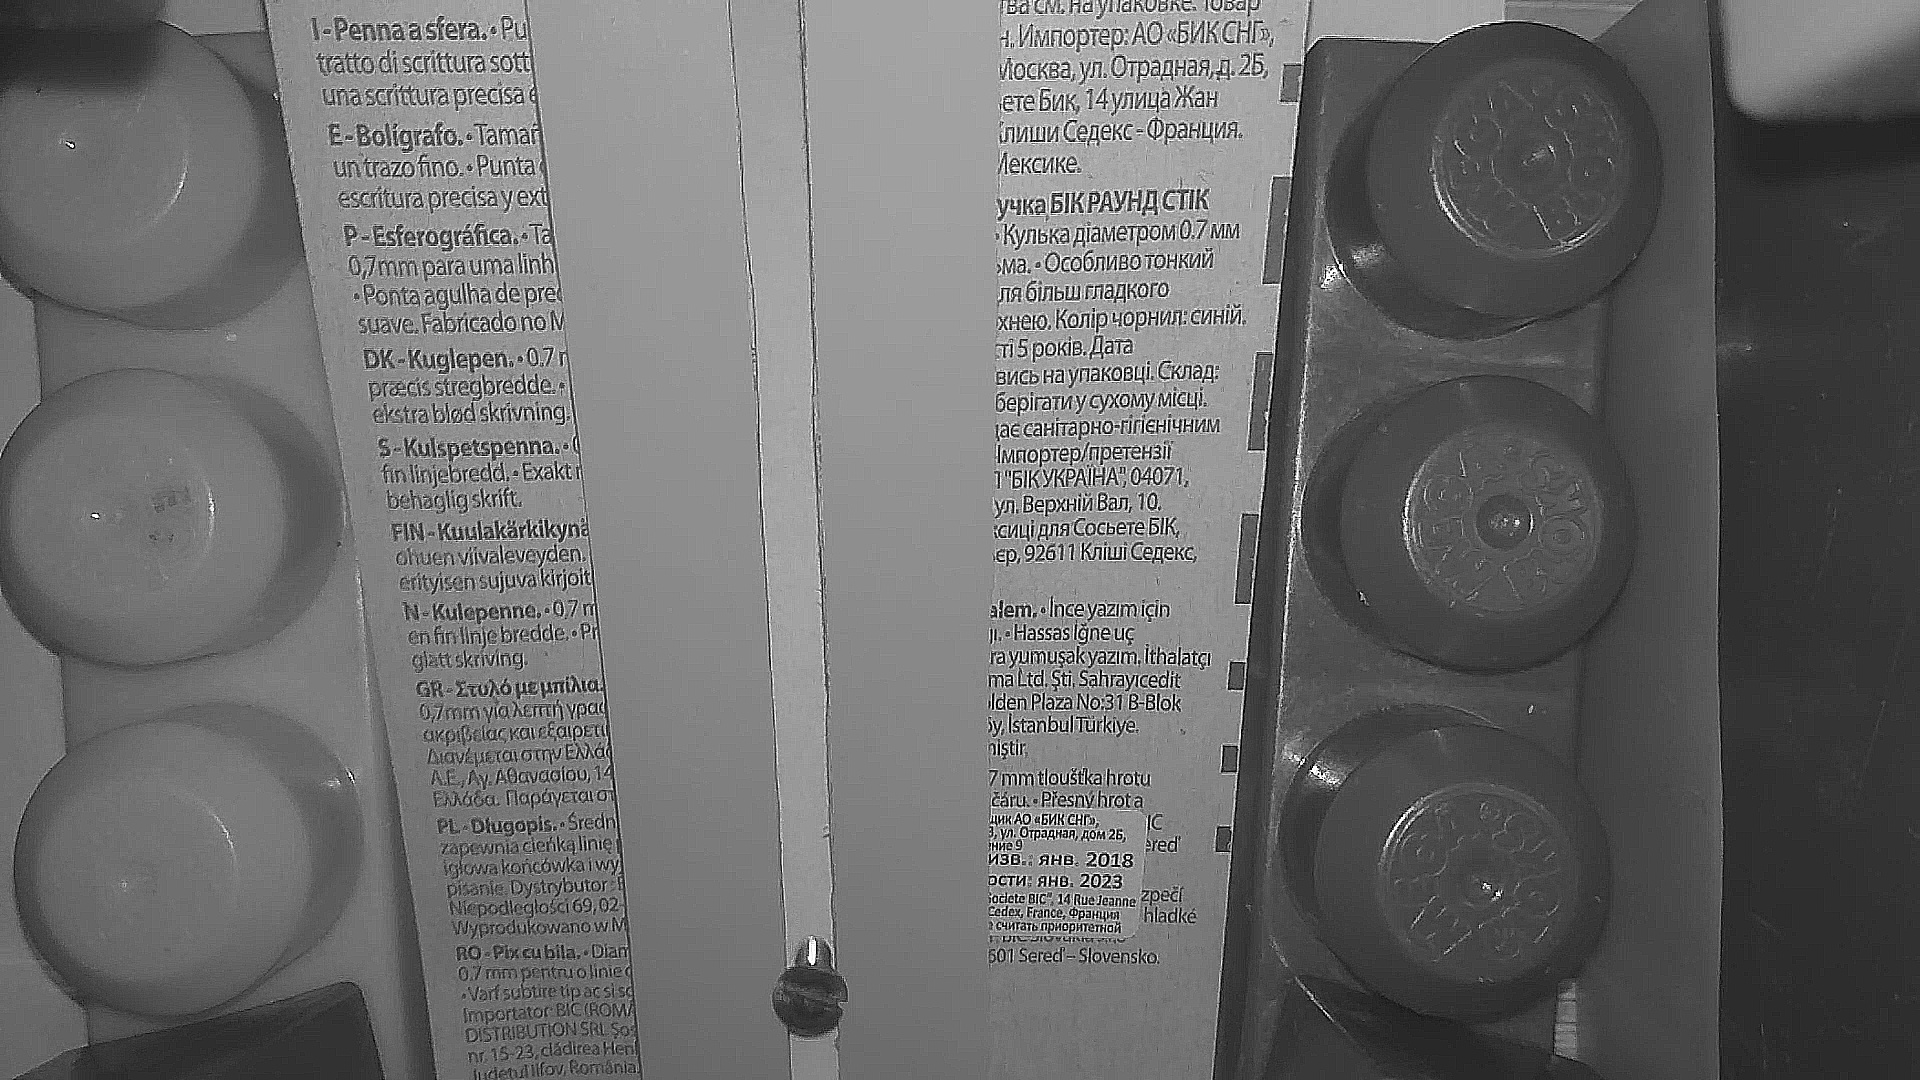i: (774, 963, 847, 1036)
